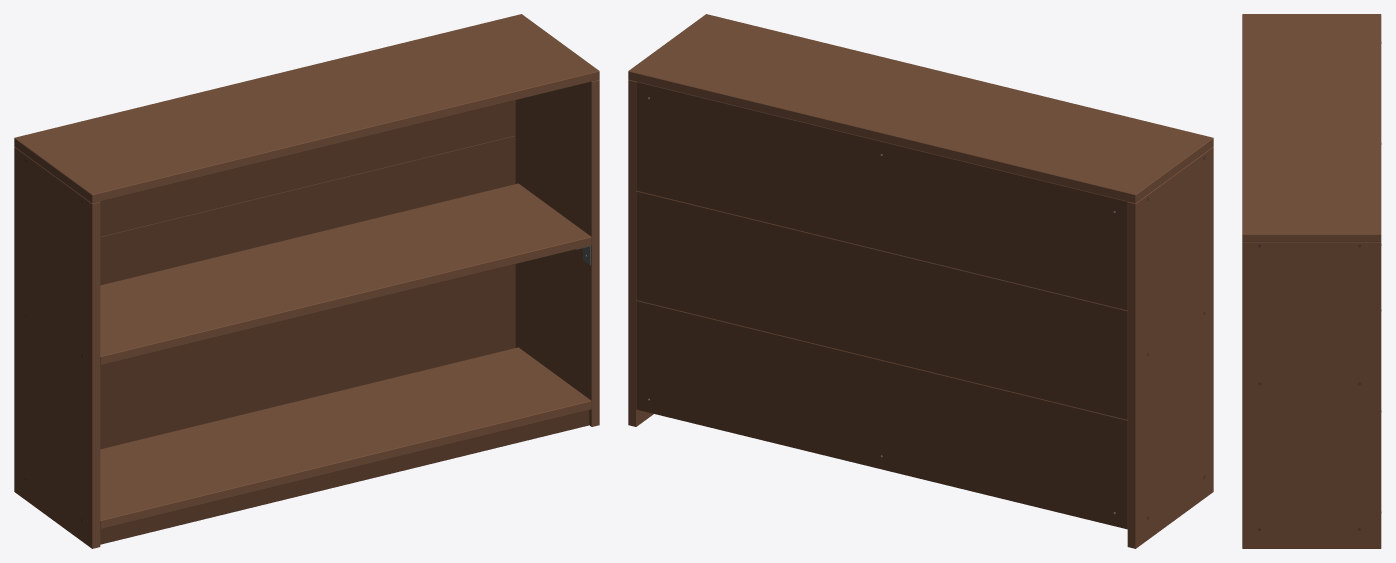
File: low-bookcase-70a26e37d427.glb
The picture shows the model from 3 angles, left to right: view 1: azimuth 30°, elevation 25°; view 2: azimuth 150°, elevation 25°; view 3: azimuth 270°, elevation 25°; orthographic projection. The views are drawn at different scales.
Parts seen in each view (by area): view 1: wood-coffee, wood-coffee-inset; view 2: wood-coffee-inset, wood-coffee; view 3: wood-coffee.
Part boxes in pixels (x1,y1,x2,y2): wood-coffee: (14,14,599,548); wood-coffee-inset: (25,100,589,544); wood-coffee-inset: (636,82,1205,529); wood-coffee: (628,14,1213,548); wood-coffee: (1242,14,1381,548).
Bounding box in the file's own units: 1.2 × 0.8 × 0.321.
